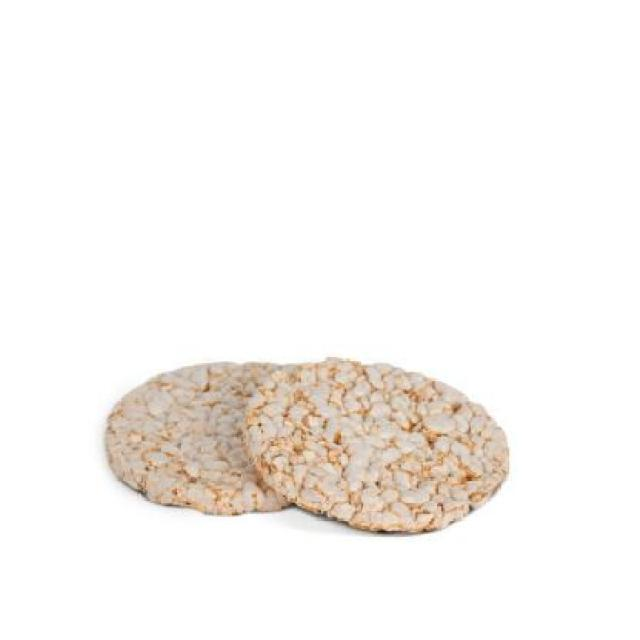Gallette di riso packaged: (103, 357, 514, 531)
